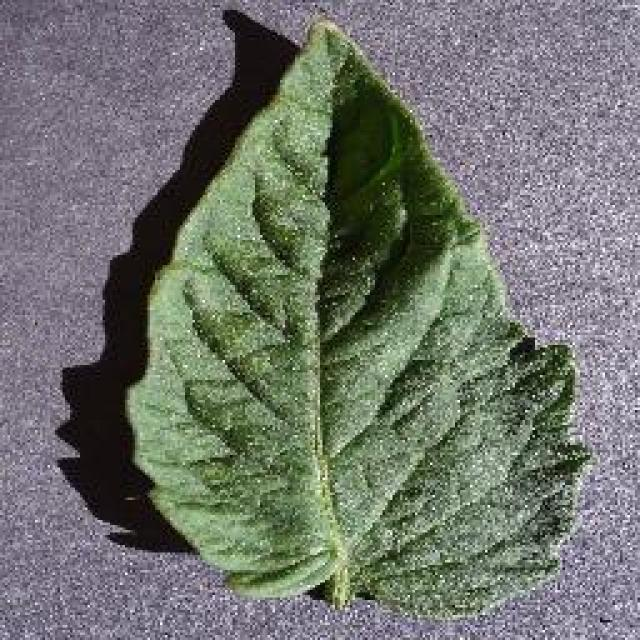healthy: (124, 19, 604, 620)
